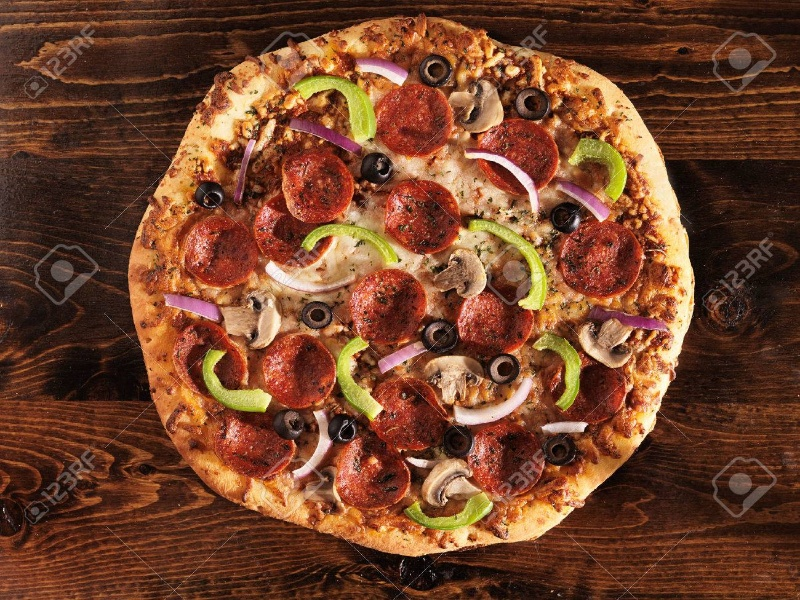olive noir: (507, 75, 556, 122), (414, 315, 466, 354), (480, 355, 525, 389), (292, 297, 335, 332), (330, 410, 363, 452), (418, 55, 456, 91), (440, 422, 475, 460), (361, 151, 400, 185), (195, 178, 232, 212), (543, 437, 578, 468), (552, 203, 585, 234), (281, 413, 310, 439)
pepperonis: (389, 175, 464, 256), (376, 80, 454, 157), (368, 375, 449, 448), (264, 332, 340, 408), (280, 152, 357, 224), (347, 267, 421, 340), (183, 217, 257, 289), (568, 229, 643, 298), (339, 441, 412, 508)
